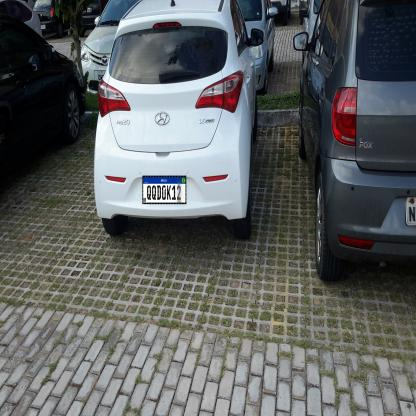PlacaM: (142, 176, 186, 204)
